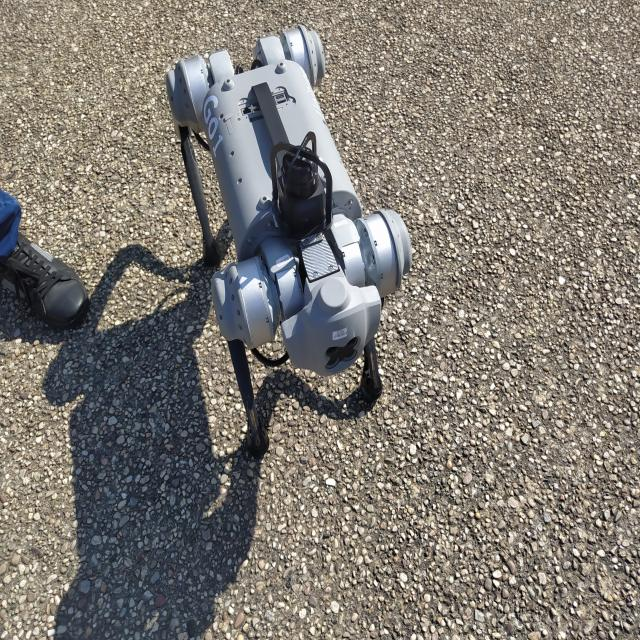unitree-go1-robot: (156, 12, 425, 470)
